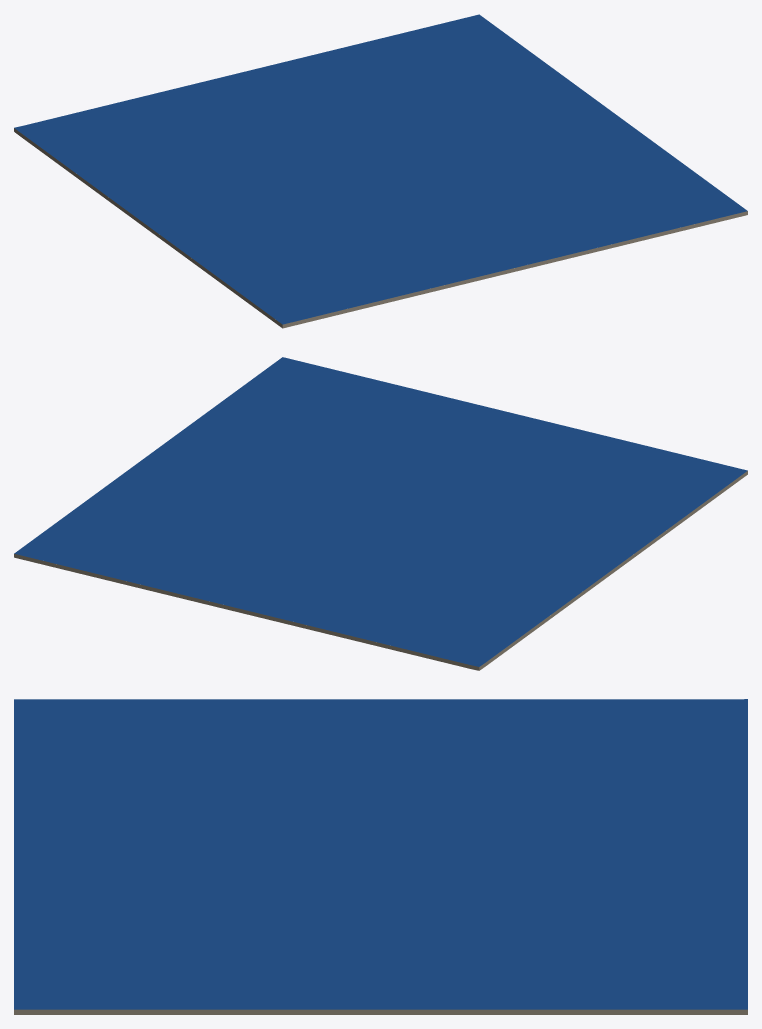
File: parca_+9_-9-uzak.glb
The picture shows the model from 3 angles, top to bottom: view 1: azimuth 30°, elevation 25°; view 2: azimuth 150°, elevation 25°; view 3: azimuth 270°, elevation 25°; orthographic projection. The views are drawn at different scales.
Visible parts, largest first — view 1: parca_+9_-9_arazi_uzak; view 2: parca_+9_-9_arazi_uzak; view 3: parca_+9_-9_arazi_uzak.
Boxes of the visible parts, box(x1,y1,x2,y2) form: parca_+9_-9_arazi_uzak: box(14, 14, 747, 328); parca_+9_-9_arazi_uzak: box(14, 357, 747, 670); parca_+9_-9_arazi_uzak: box(14, 699, 747, 1014).
Size of the model in its own units: 1000 by 8.43 by 1000.
